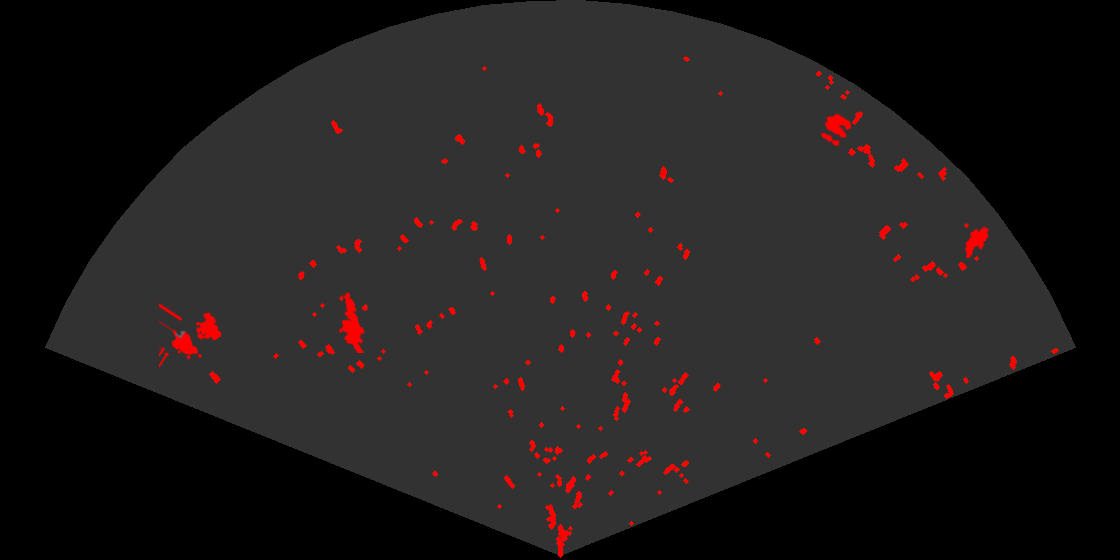AUV: (963, 225, 990, 261)
ball: (819, 112, 853, 148)
cage: (159, 301, 223, 370)
frogman: (337, 291, 366, 353)
